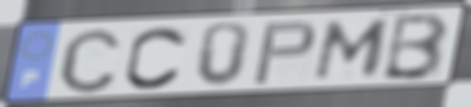0: (195, 20, 254, 90)
B: (379, 10, 452, 82)
C: (56, 25, 125, 96), (122, 24, 191, 92)
M: (309, 17, 395, 83)
P: (249, 18, 319, 87)
